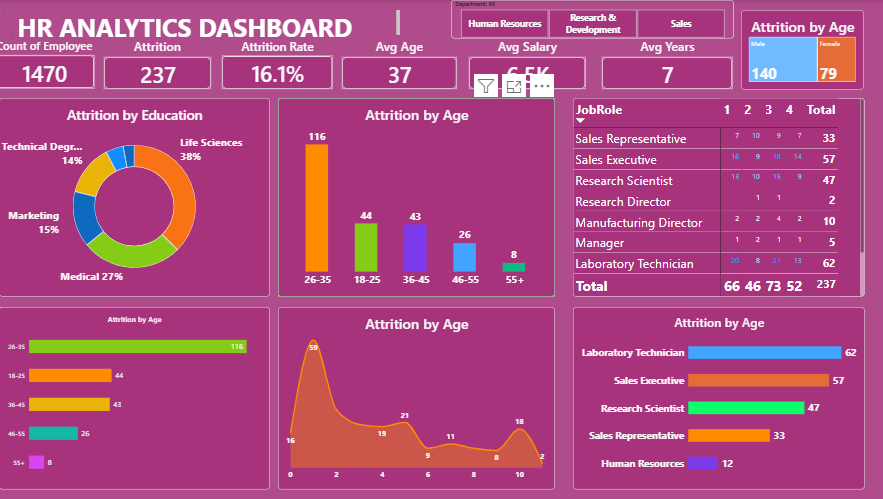

What the dashboard file says about the page in this screenshot:
{"tool":"powerbi","page":{"name":"Page 1","canvas":[1920,1080],"ordinal":0},"visuals":[{"type":"cardVisual","title":"Count of Employee","fields":{"Data":["CountNonNull(hr analystics.EmpID)"]},"box":[0,83.1,217.2,109.9],"z":0},{"type":"cardVisual","title":"Avg Age","fields":{"Data":["Avg(hr analystics.Age)"]},"box":[751.7,82.1,248.4,110.2],"z":1000},{"type":"cardVisual","title":"Attrition","fields":{"Data":["hr analystics.Attrition_Count"]},"box":[237.6,82.1,231.1,110.2],"z":2000},{"type":"cardVisual","title":"Attrition Rate","fields":{"Data":["hr analystics.Attrition Rate"]},"box":[492.5,82.1,239.8,110.2],"z":3000},{"type":"cardVisual","title":"Avg Salary","fields":{"Data":["Avg(hr analystics.MonthlyIncome)"]},"box":[1026,82.1,252.7,110.2],"z":4000},{"type":"cardVisual","title":"Avg Years","fields":{"Data":["Avg(hr analystics.YearsAtCompany)"]},"box":[1313.3,82.1,283,110.2],"z":5000},{"type":"donutChart","title":"Attrition by Education","fields":{"Category":["hr analystics.EducationField"],"Y":["hr analystics.Attrition_Count"]},"box":[10.7,211.8,584.6,429.1],"z":6000},{"type":"columnChart","title":"Attrition by Age","fields":{"Category":["hr analystics.AgeGroup"],"Y":["hr analystics.Attrition_Count"]},"box":[614.1,211.8,598,429.1],"z":7000},{"type":"pivotTable","fields":{"Columns":["hr analystics.JobSatisfaction"],"Rows":["hr analystics.JobRole"],"Values":["hr analystics.Attrition_Count"]},"box":[1249.6,211.8,630.2,429.1],"z":8000},{"type":"barChart","title":"Attrition by Age","fields":{"Category":["hr analystics.AgeGroup"],"Y":["hr analystics.Attrition_Count"]},"box":[10.7,662.3,584.6,394.2],"z":9000},{"type":"barChart","title":"Attrition by Age","fields":{"Category":["hr analystics.JobRole"],"Y":["hr analystics.Attrition_Count"]},"box":[1249.6,662.3,630.2,394.2],"z":10000},{"type":"areaChart","title":"Attrition by Age","fields":{"Category":["hr analystics.YearsAtCompany"],"Y":["hr analystics.Attrition_Count"]},"box":[614.1,662.3,598,394.2],"z":11000},{"type":"treemap","title":"Attrition by Age","fields":{"Group":["hr analystics.Gender"],"Values":["hr analystics.Attrition_Count"]},"box":[1614.3,21.5,265.5,171.6],"z":12000},{"type":"slicer","fields":{"Values":["hr analystics.Department"]},"box":[986.8,0,611.4,83.1],"z":13000},{"type":"textbox","box":[10.7,21.5,866.1,61.7],"z":14000}]}

Visuals, with their boxes in screenshot pixels (x1, y1, x2, y2), scaled from the page's 1920x1080 canvas onto the 883x499 screenshot:
"Count of Employee" cardVisual: 0,38,100,89
"Avg Age" cardVisual: 346,38,460,89
"Attrition" cardVisual: 109,38,216,89
"Attrition Rate" cardVisual: 226,38,337,89
"Avg Salary" cardVisual: 472,38,588,89
"Avg Years" cardVisual: 604,38,734,89
"Attrition by Education" donutChart: 5,98,274,296
"Attrition by Age" columnChart: 282,98,557,296
pivotTable - hr analystics.JobSatisfaction x hr analystics.JobRole: 575,98,865,296
"Attrition by Age" barChart: 5,306,274,488
"Attrition by Age" barChart: 575,306,865,488
"Attrition by Age" areaChart: 282,306,557,488
"Attrition by Age" treemap: 742,10,865,89
slicer - hr analystics.Department: 454,0,735,38
textbox: 5,10,403,38
